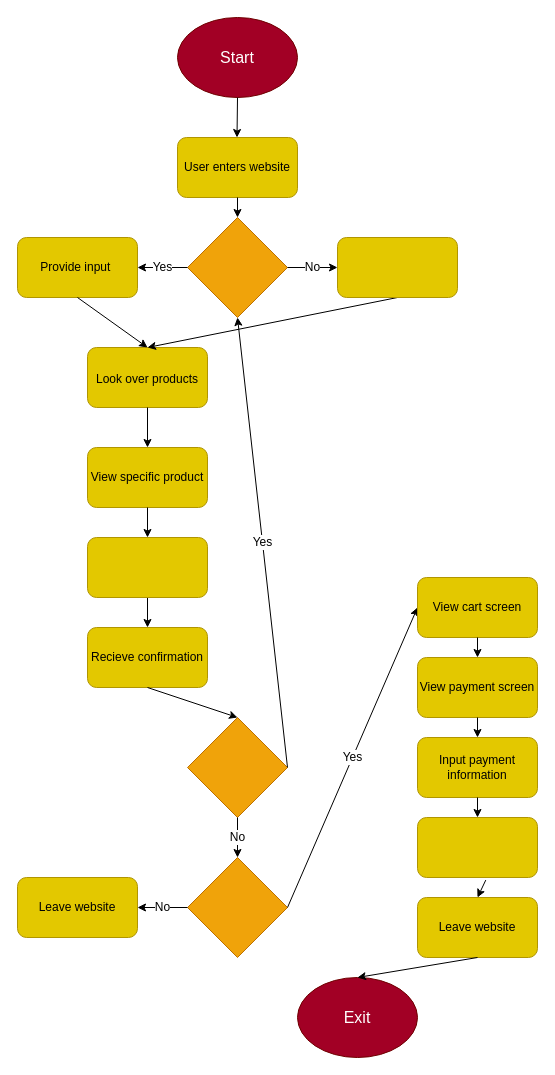
The diagram is 555 pixels wide and 1075 high, and some of its shapes have lost their labels. Here are the shapes that lost their labels. From the top down, the centre of each, then its label:
the point at 237,267: Search for a product
the point at 397,267: Explore products on homepage
the point at 147,567: Add product to cart
the point at 237,767: Continue shopping
the point at 477,847: Order confirmation and email
the point at 237,907: Checkout
